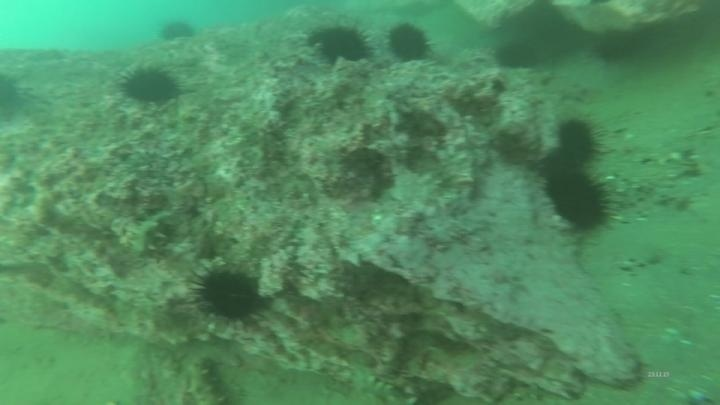echinus: (188, 260, 268, 328), (542, 166, 617, 234), (308, 21, 374, 67), (118, 63, 183, 107), (553, 115, 605, 167), (385, 21, 433, 64), (591, 28, 640, 66), (493, 38, 542, 73), (0, 70, 29, 125), (157, 17, 198, 45)
holothurian: (180, 354, 235, 405), (127, 206, 176, 260)
